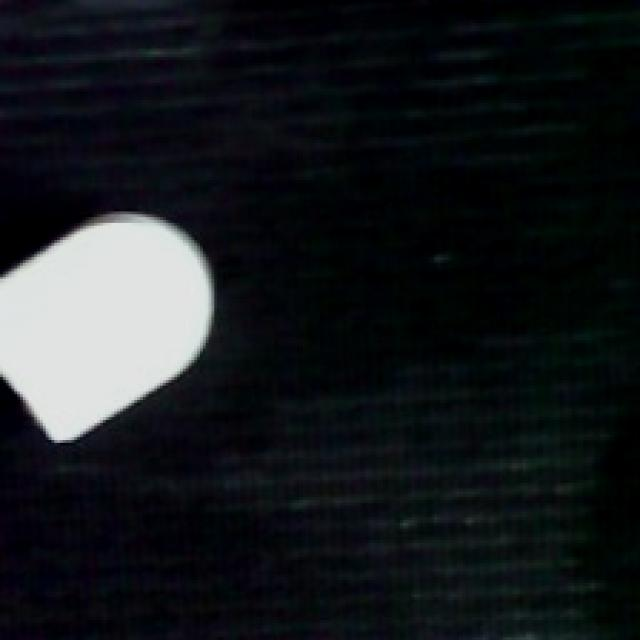defected: (0, 208, 220, 450)
